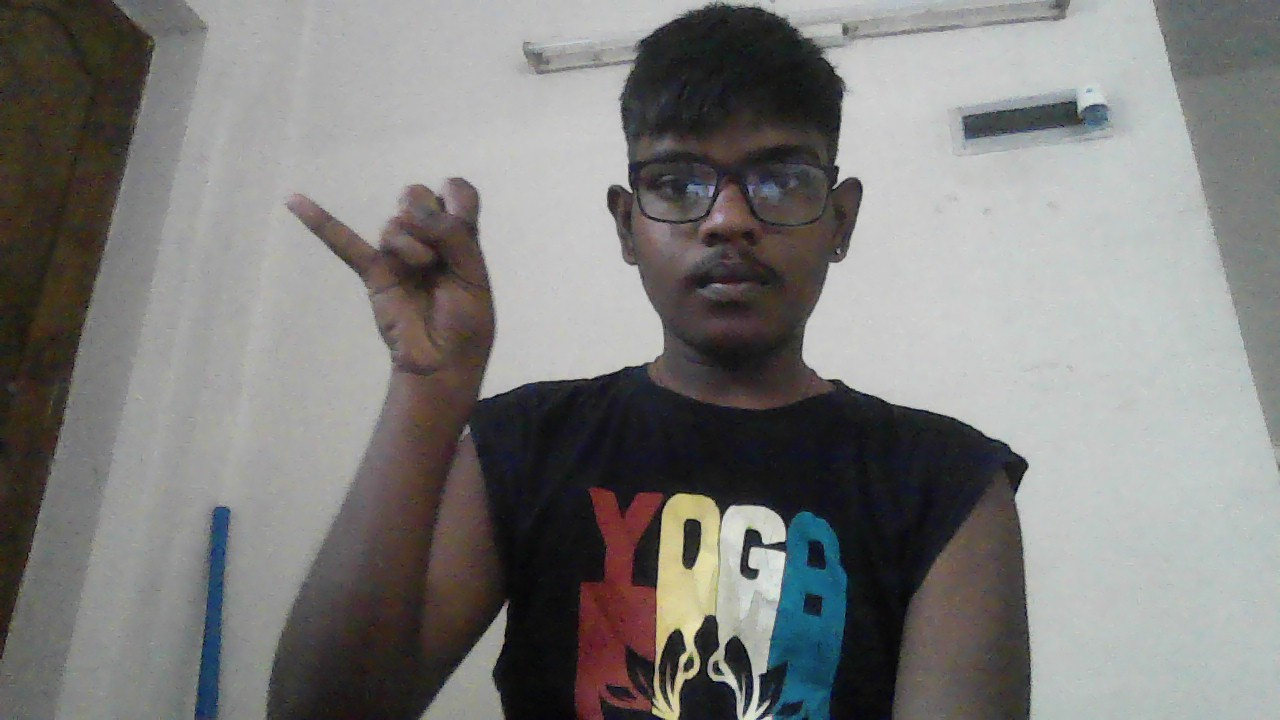J: (282, 176, 495, 380)
